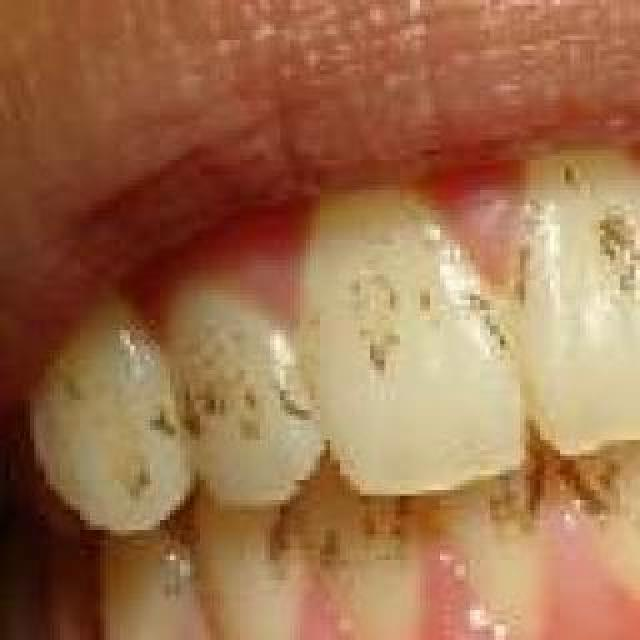stains: (301, 203, 509, 385), (145, 284, 319, 478), (45, 311, 201, 511), (500, 148, 640, 356), (178, 494, 310, 640), (453, 445, 585, 549), (316, 489, 434, 589), (558, 434, 640, 560)
